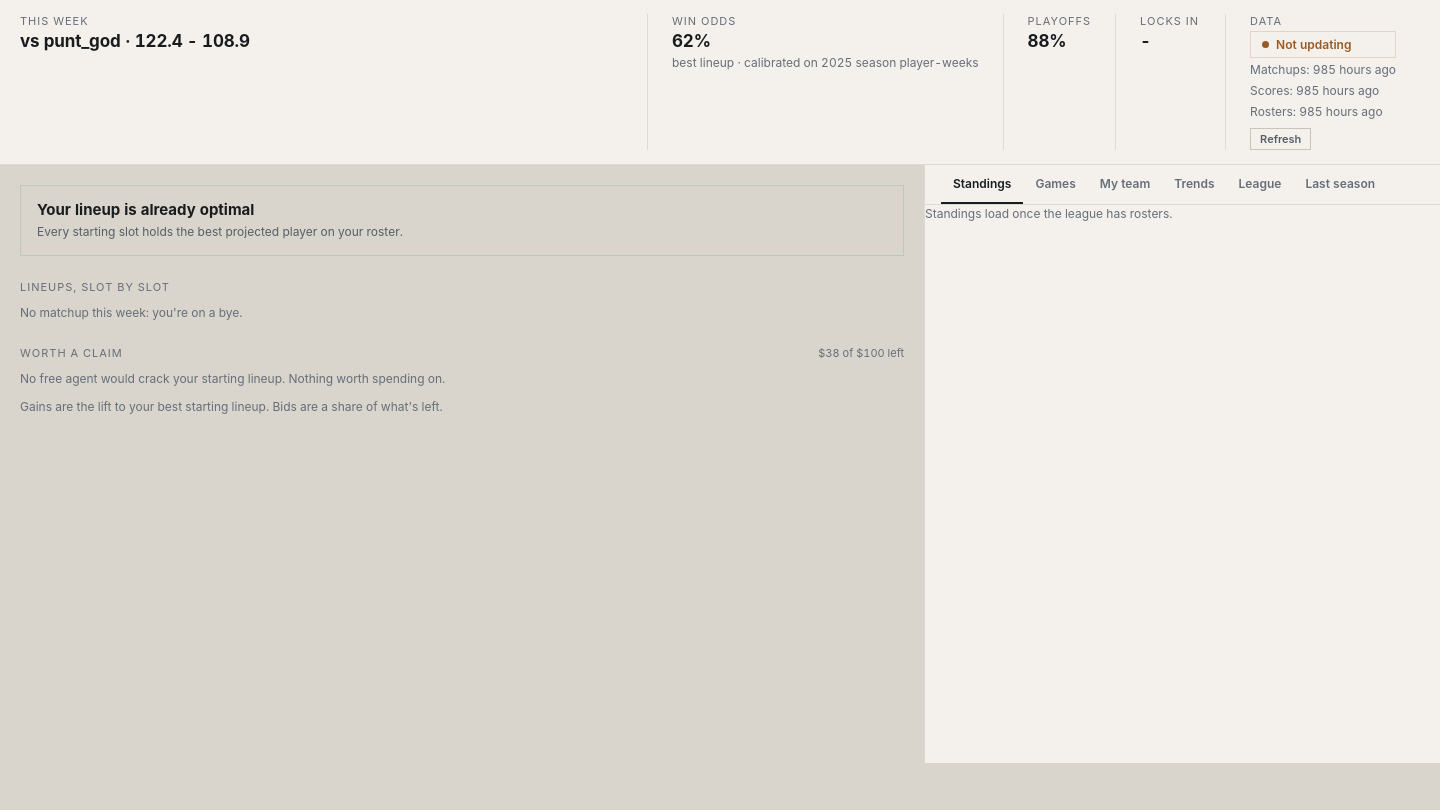
Test: the Refresh button › says why when it fails, keeps the view it had, and offers the button again
Click the button "Refresh" at (1281, 139), box [1250,128,1311,150]
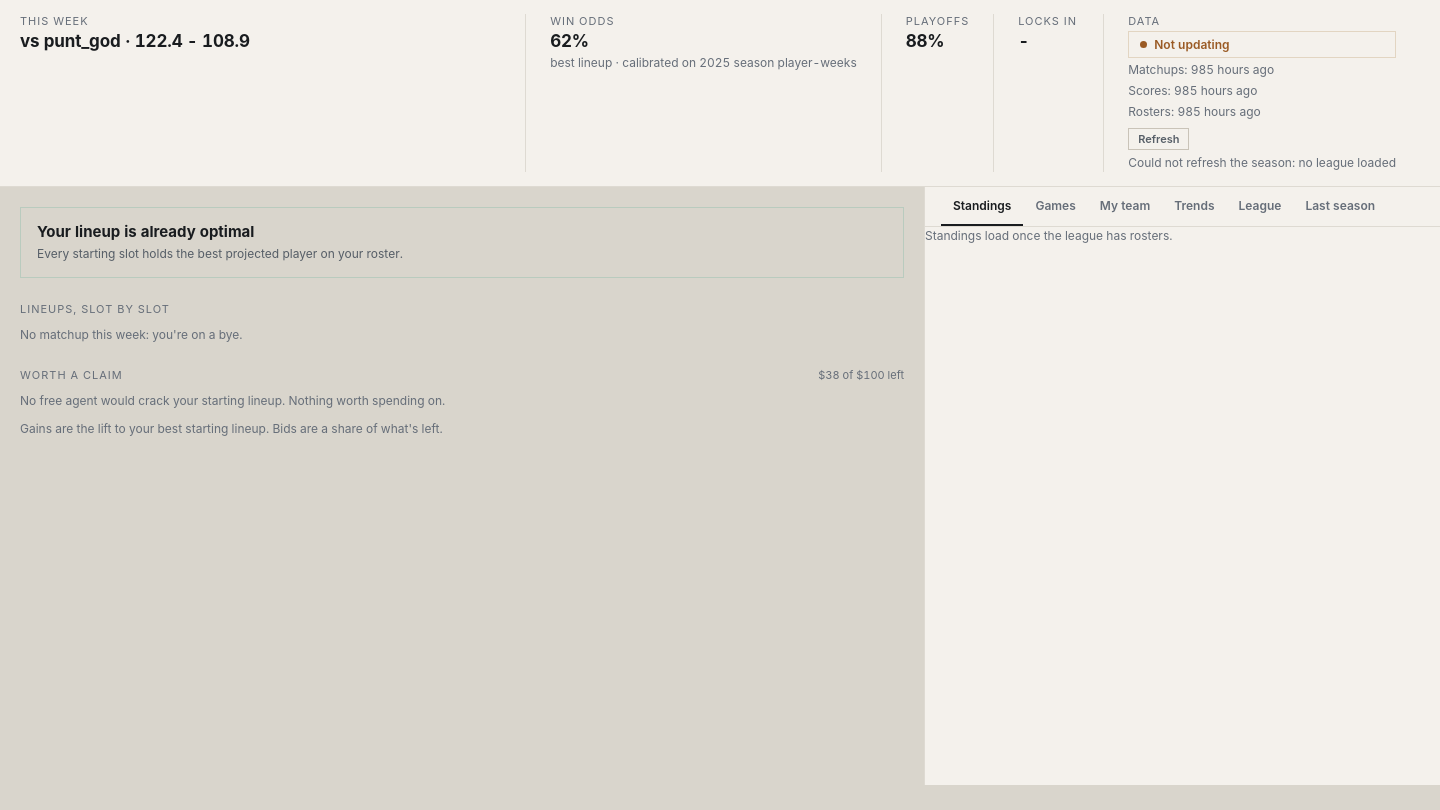
Expected: the text "vs punt_god · 122.4 - 108.9" is shown, [20,31,250,51]
Now the message reads "Could not refresh the season: no league loaded", box [1128,155,1396,170]
